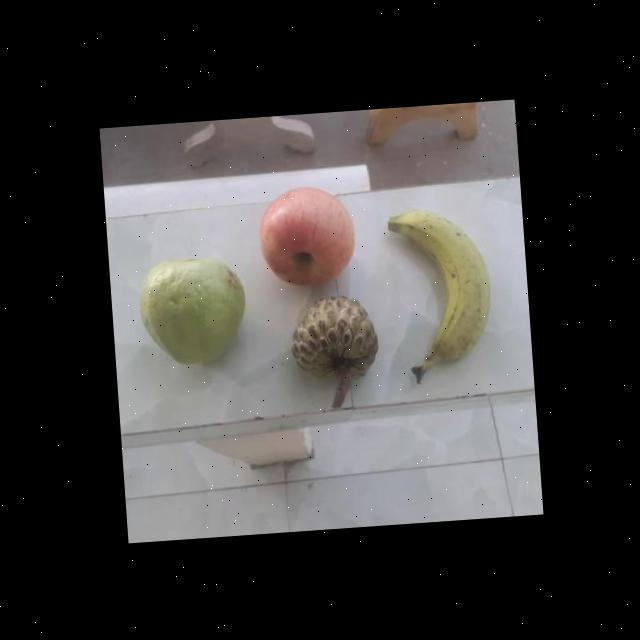Sakya fruit: (281, 292, 378, 394)
apple: (250, 184, 359, 286)
banana: (384, 204, 492, 370)
guava: (131, 256, 244, 364)
